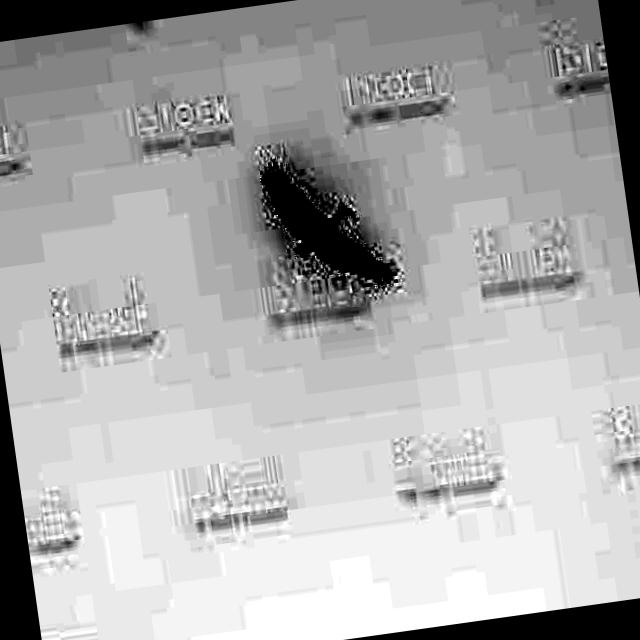bird: (244, 146, 402, 300)
